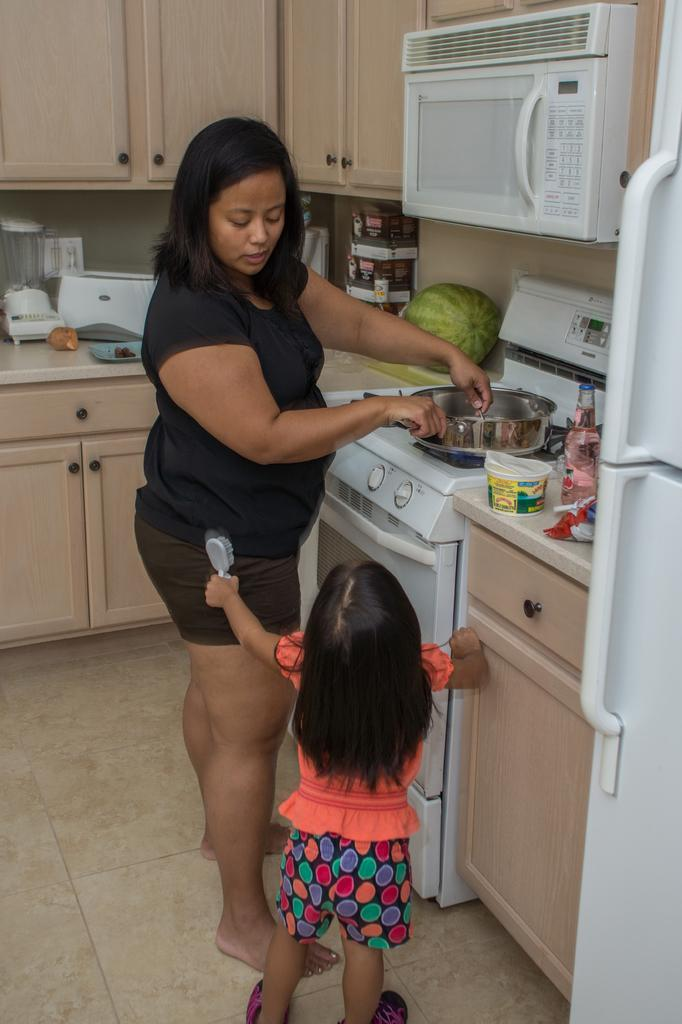cabinet_door: (12, 24, 132, 180), (151, 30, 268, 180), (2, 450, 82, 612), (477, 554, 575, 656), (344, 17, 401, 188), (290, 13, 340, 182), (87, 442, 134, 610), (2, 392, 160, 430)
handle: (577, 472, 628, 801), (610, 148, 656, 468), (511, 88, 537, 212), (516, 593, 540, 630), (76, 401, 90, 434), (68, 451, 80, 485), (148, 149, 165, 172), (340, 148, 352, 178), (119, 145, 130, 175), (90, 451, 101, 479), (324, 146, 333, 172)
